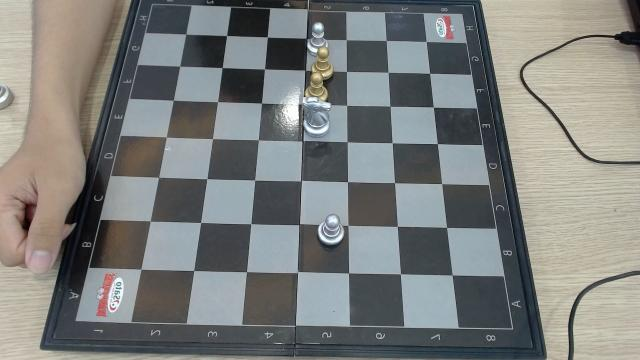black_pawn: (306, 72, 329, 96), (314, 47, 333, 74)
white_knight: (299, 96, 333, 137)
white_pawn: (317, 213, 347, 248), (307, 22, 328, 52)
